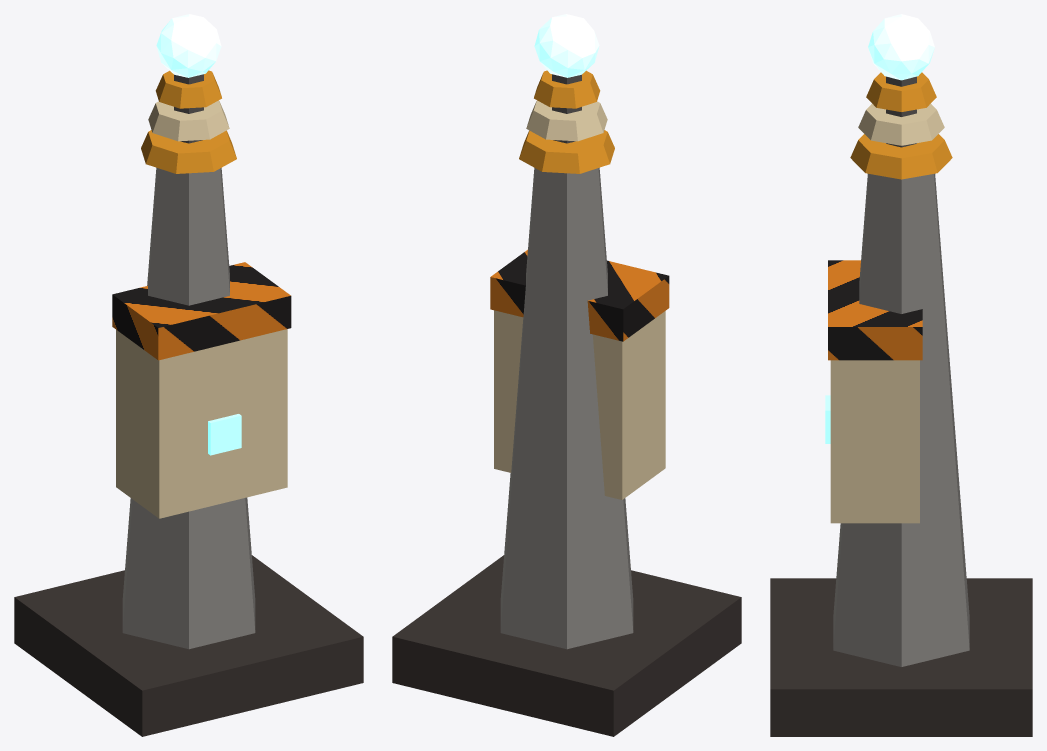
File: vedeni-pripojka.glb
The picture shows the model from 3 angles, left to right: view 1: azimuth 30°, elevation 25°; view 2: azimuth 150°, elevation 25°; view 3: azimuth 270°, elevation 25°; orthographic projection. The views are drawn at different scales.
Parts seen in each view (by area): view 1: vedeni-pripojka; view 2: vedeni-pripojka; view 3: vedeni-pripojka.
Part boxes in pixels (bbox=[...]): vedeni-pripojka: bbox=[14, 14, 363, 736]; vedeni-pripojka: bbox=[392, 14, 741, 736]; vedeni-pripojka: bbox=[770, 14, 1032, 736].
Size of the model in its own units: 1 by 2.79 by 1.
Materials: 8 (1 with a texture image).
